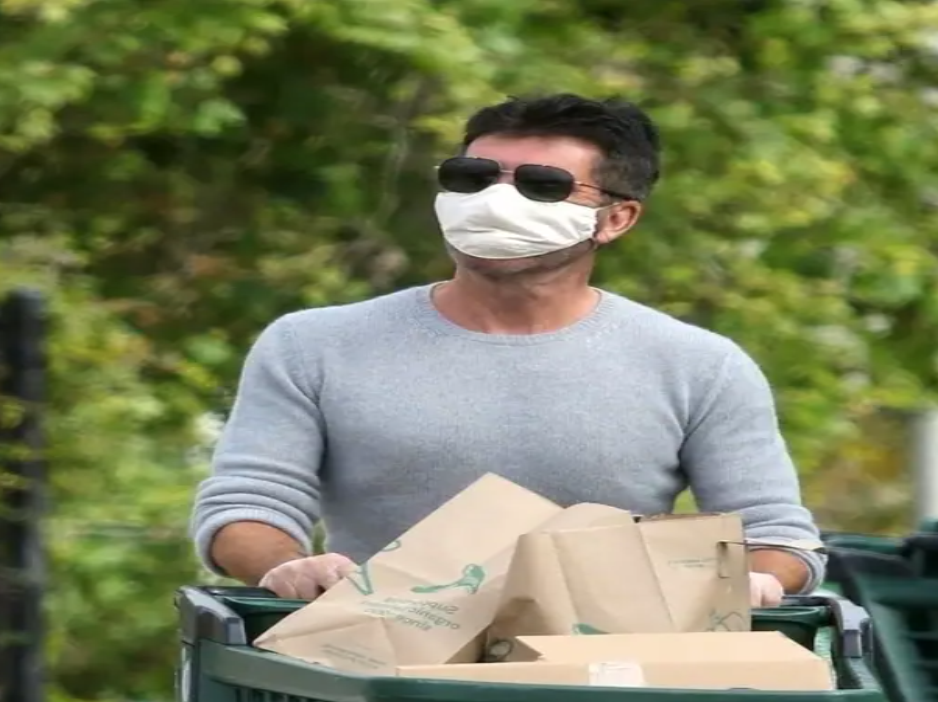mask_weared_incorrect: (423, 98, 663, 280)
